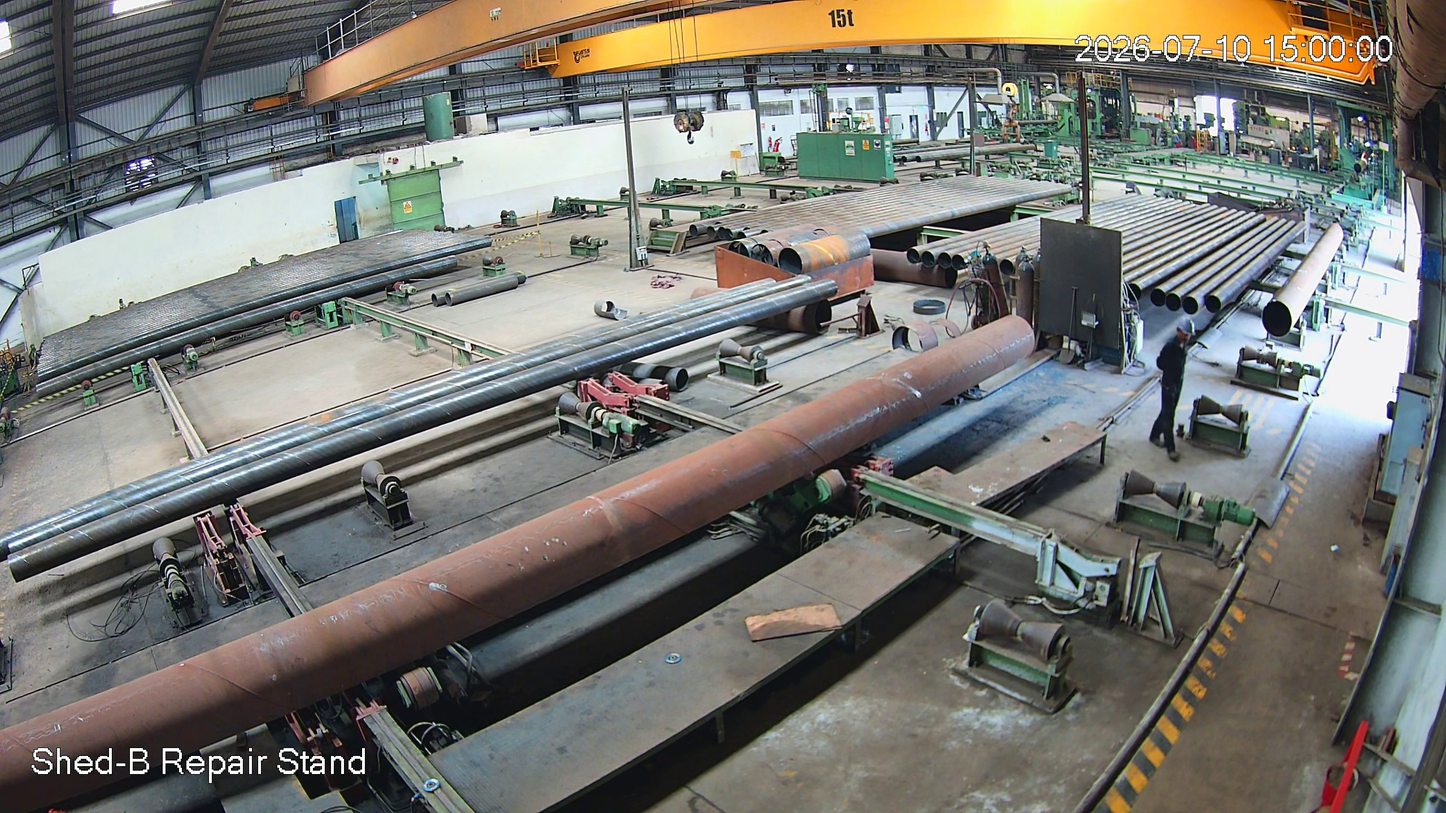Person: (1152, 316, 1203, 458)
